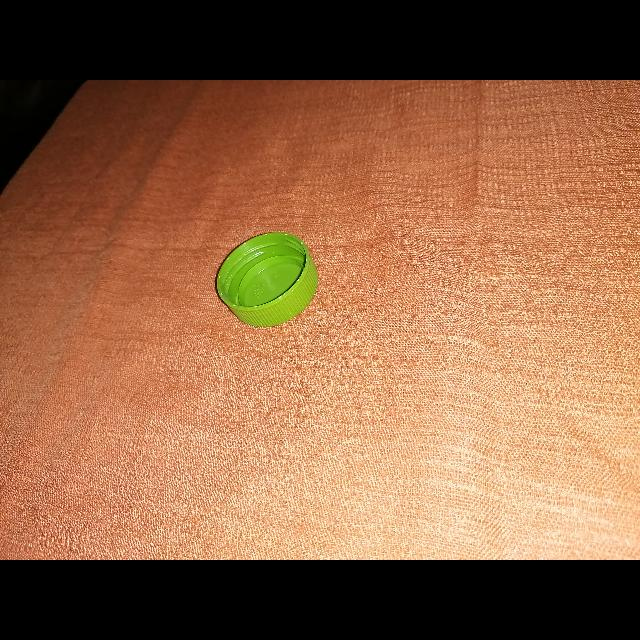plastic_bottle_cap: (215, 232, 318, 328)
